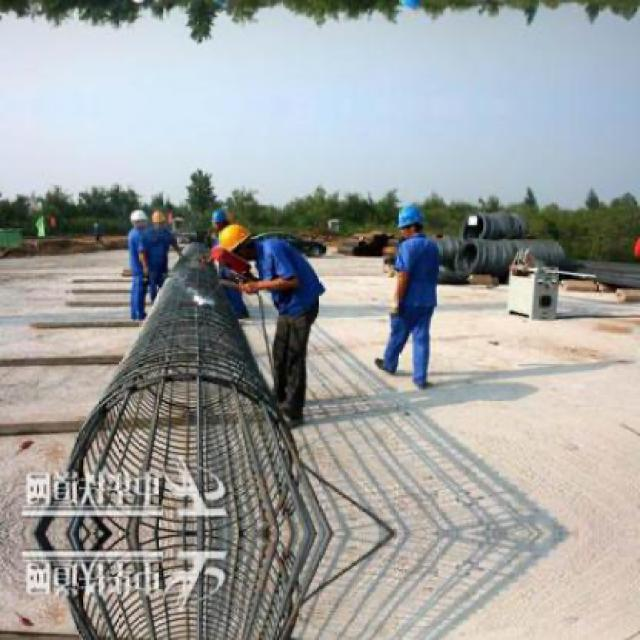helmet: (217, 222, 257, 267), (398, 204, 429, 239), (128, 207, 148, 231), (211, 207, 229, 228), (150, 210, 168, 230), (397, 0, 429, 11), (128, 0, 149, 8), (209, 0, 229, 8), (151, 0, 169, 5)
